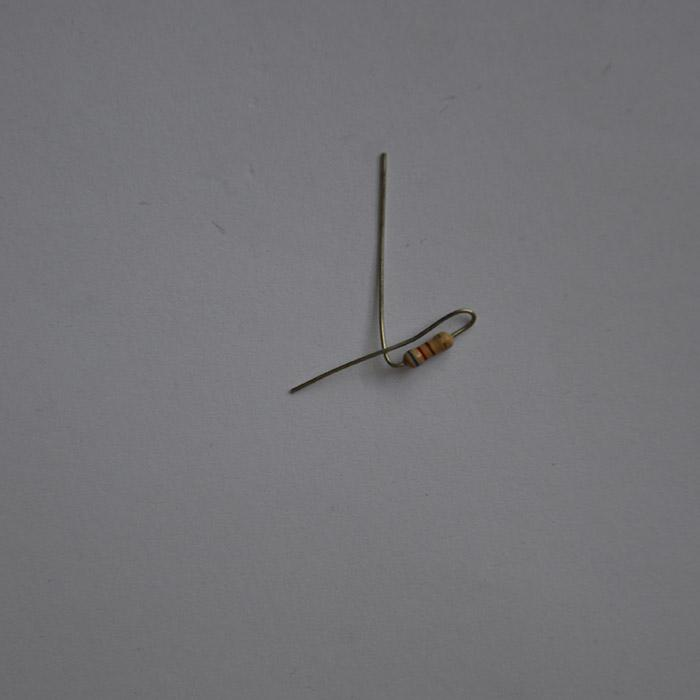resistor: (404, 330, 455, 367)
